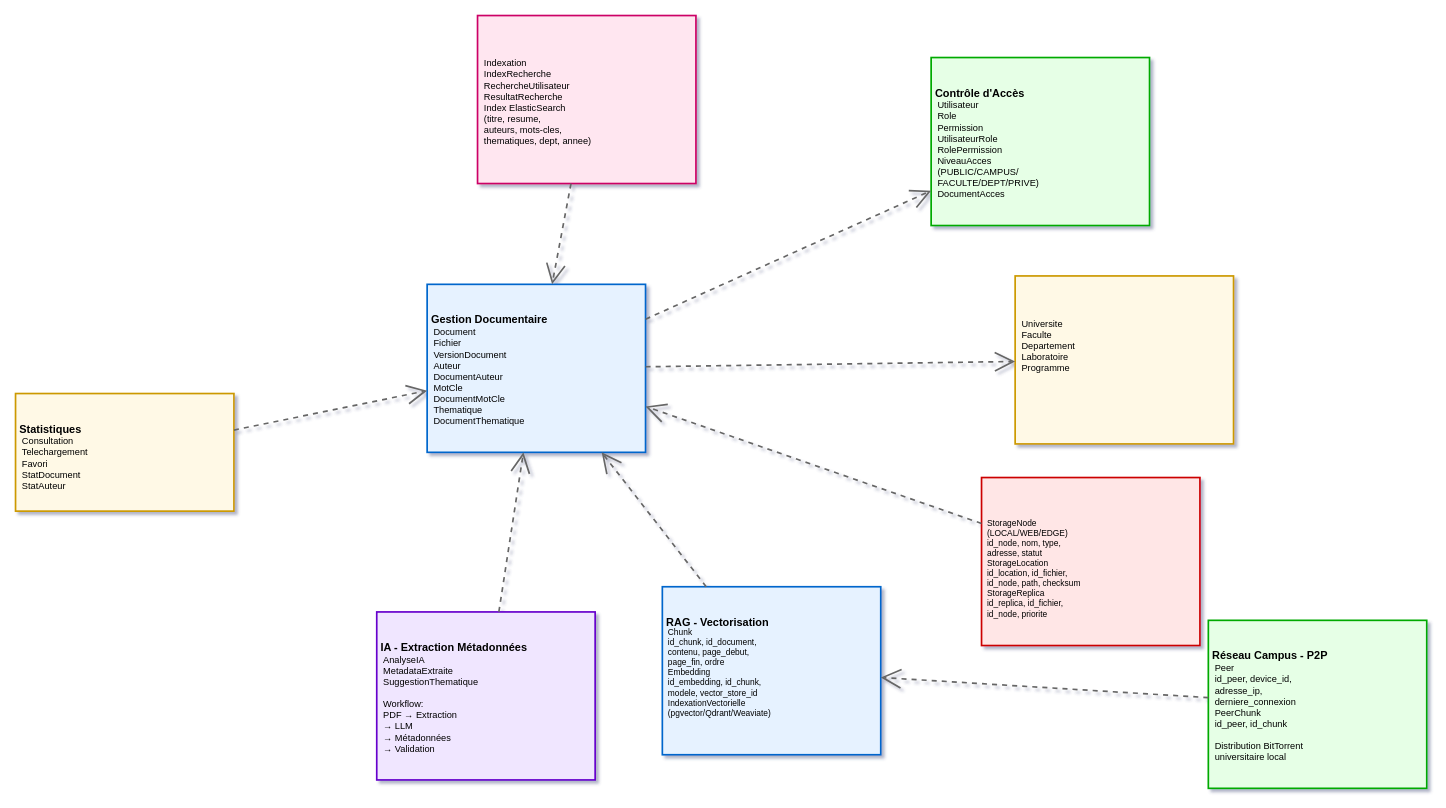
Some shapes in this 1446 by 808 pixel diagram are drawn without their labels. The shapes that lost their labels are listed below. From the top down, each one's box as (x1, y1, x2, y2) in pixels, then its label:
(476, 14, 696, 184): Recherche et Indexation
(1014, 275, 1234, 444): Organisation Académique
(980, 476, 1200, 646): Stockage - Distribution
